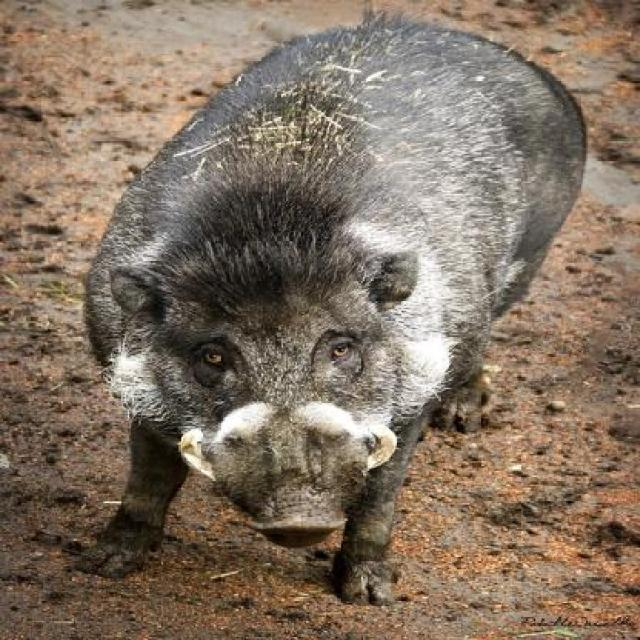wildboar: (64, 14, 602, 608)
